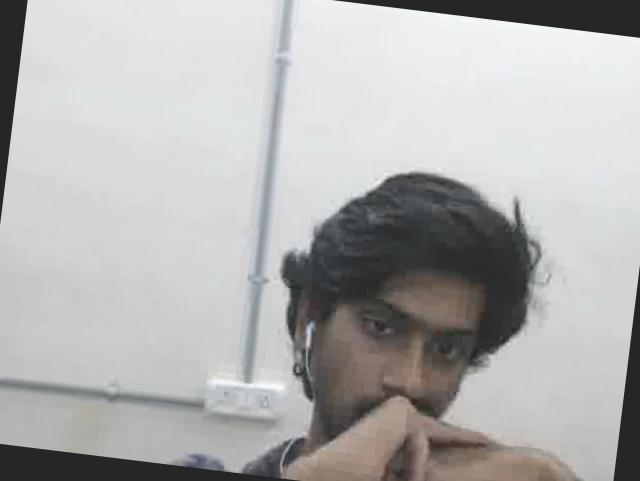bosan: (312, 256, 486, 451)
